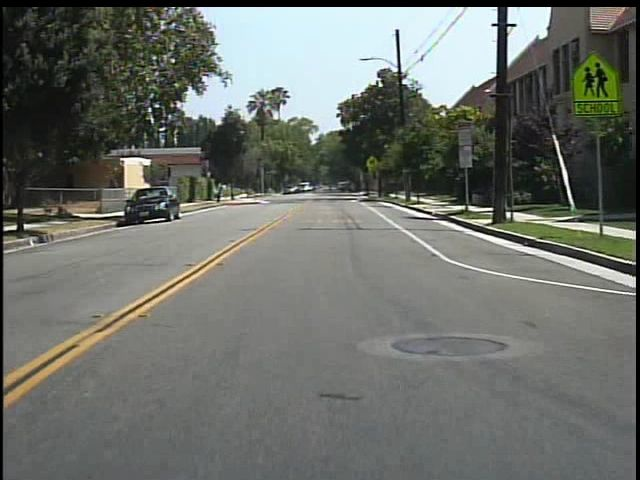person: (322, 178, 337, 196)
